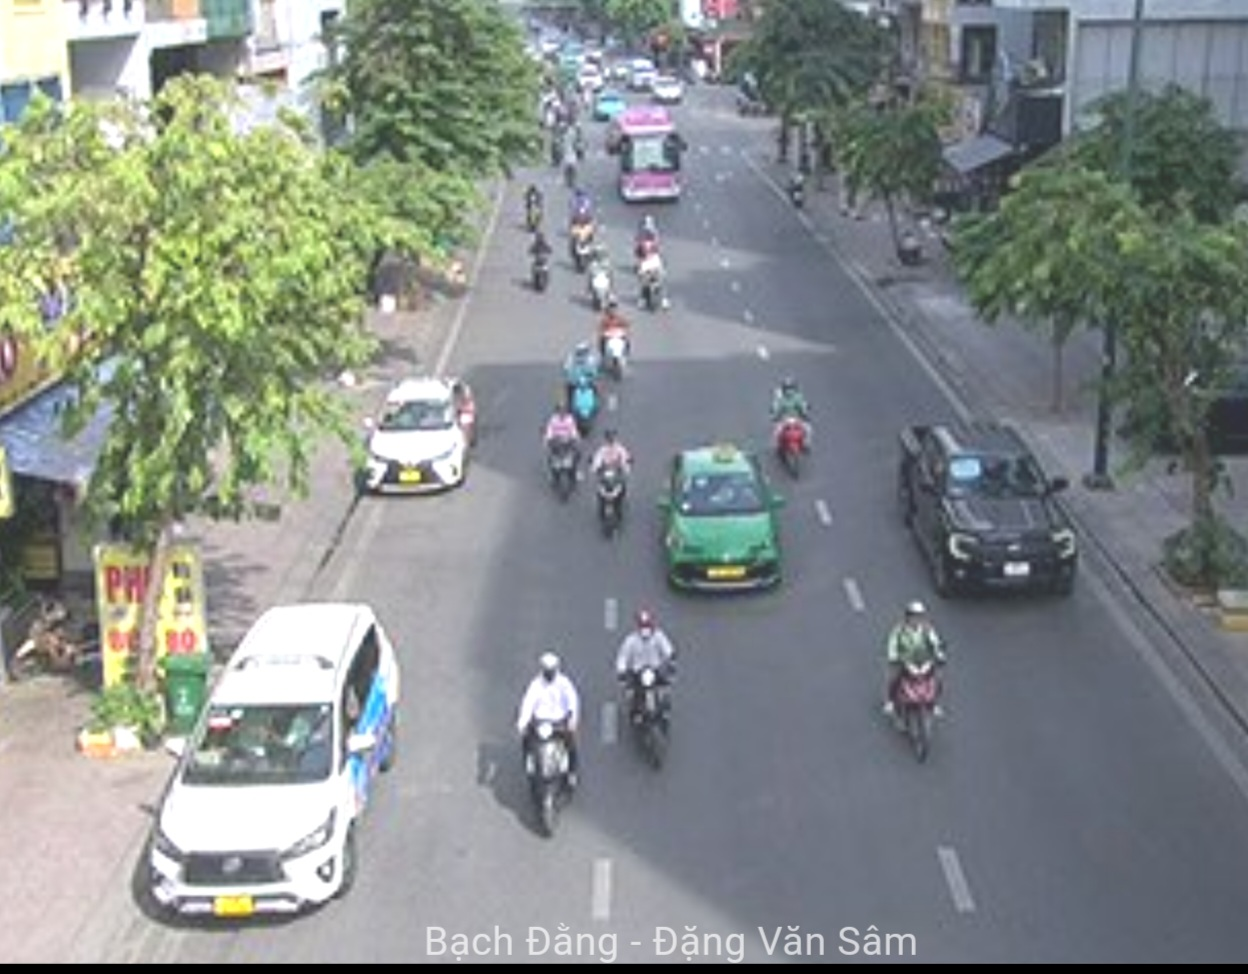car: (147, 610, 391, 914), (893, 429, 1091, 607), (657, 447, 788, 603), (360, 371, 474, 498)
